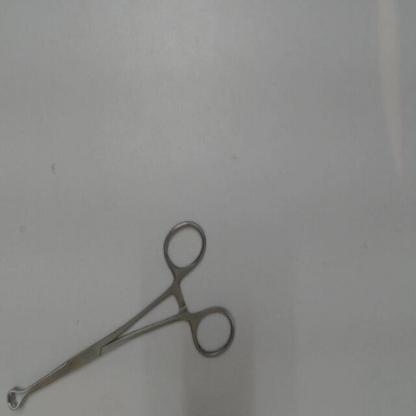Babcock Tissue Forceps: (5, 216, 240, 414)
